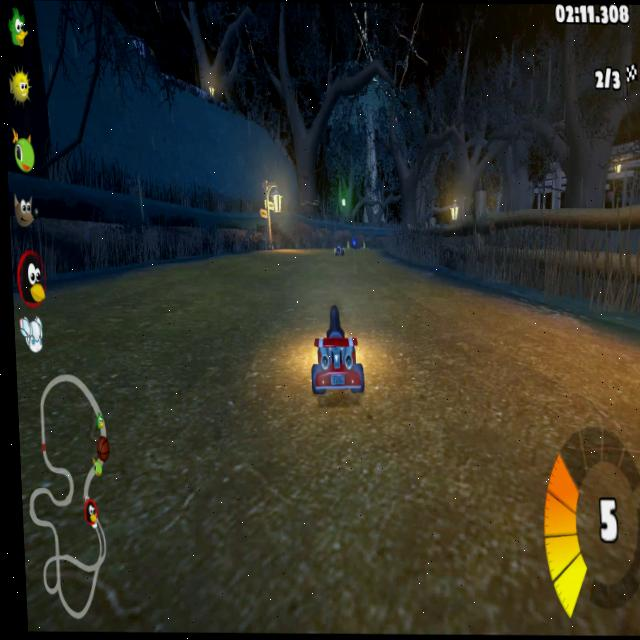player_kart: (302, 304, 367, 400), (332, 243, 345, 260)
